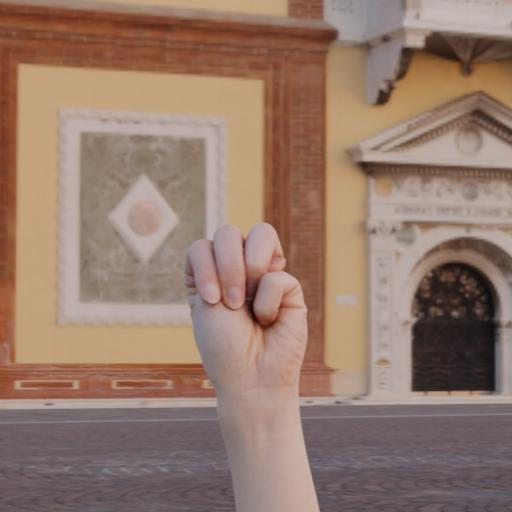M: (186, 218, 312, 394)
